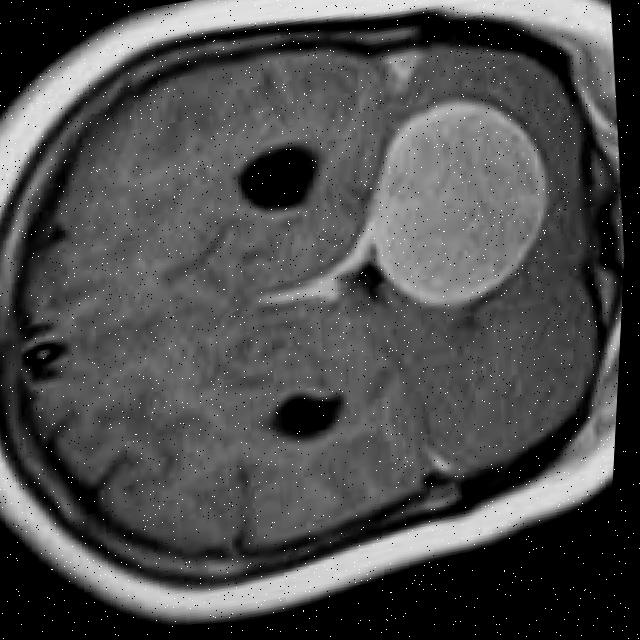Meningioma: (332, 79, 561, 325)
